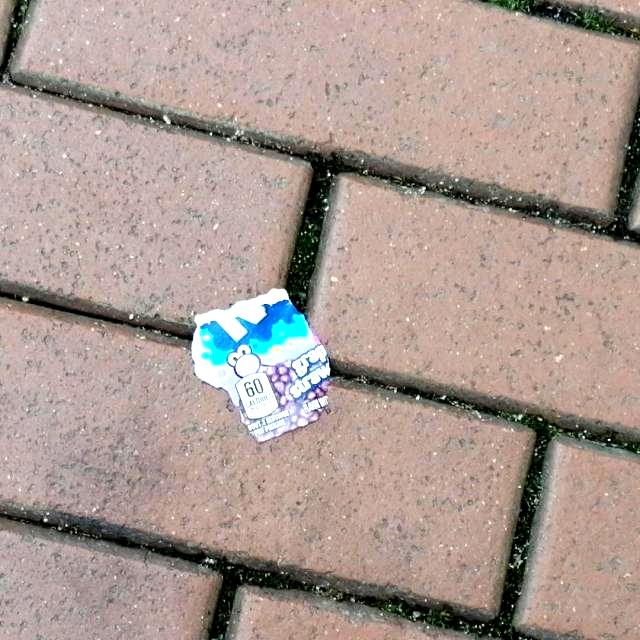Plastic: (187, 282, 335, 446)
